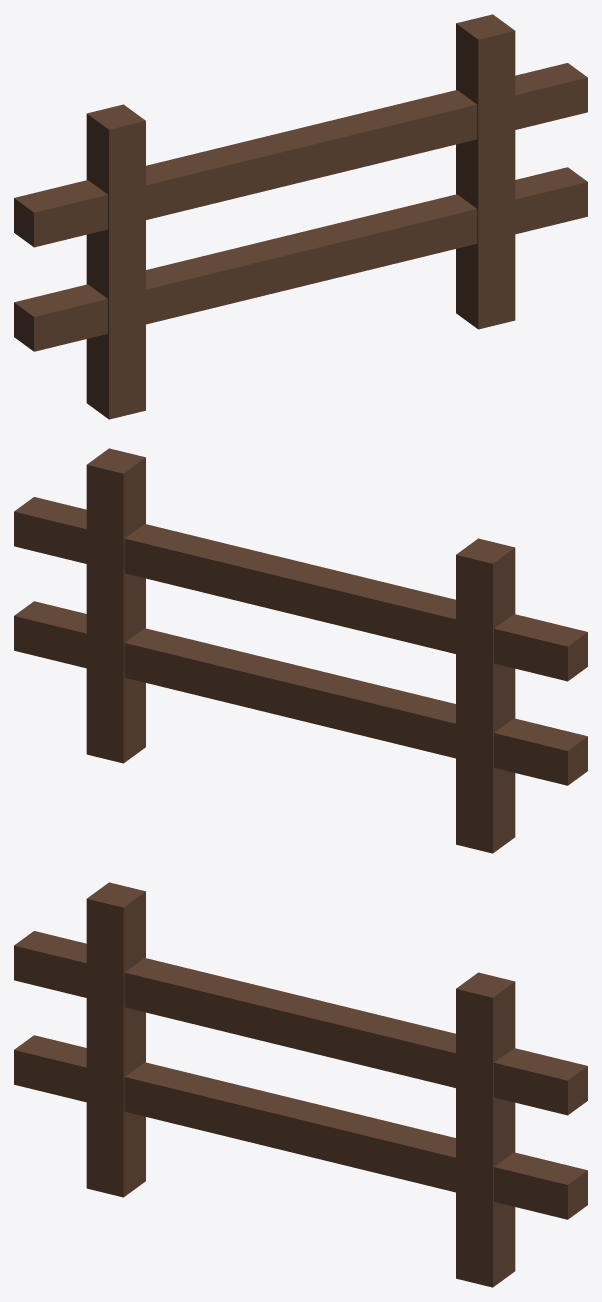
The model's file is Fence.fbx.
3 renders of one model, top to bottom at view 1: azimuth 30°, elevation 25°; view 2: azimuth 150°, elevation 25°; view 3: azimuth 330°, elevation 25°, orthographic.
Parts seen in each view (by area): view 1: Fence; view 2: Fence; view 3: Fence.
Boxes of the visible parts, bbox=[...] form: Fence: bbox=[14, 14, 587, 419]; Fence: bbox=[14, 448, 587, 853]; Fence: bbox=[14, 882, 587, 1287].
Bounding box in the file's own units: 6 × 0.42 × 3.
